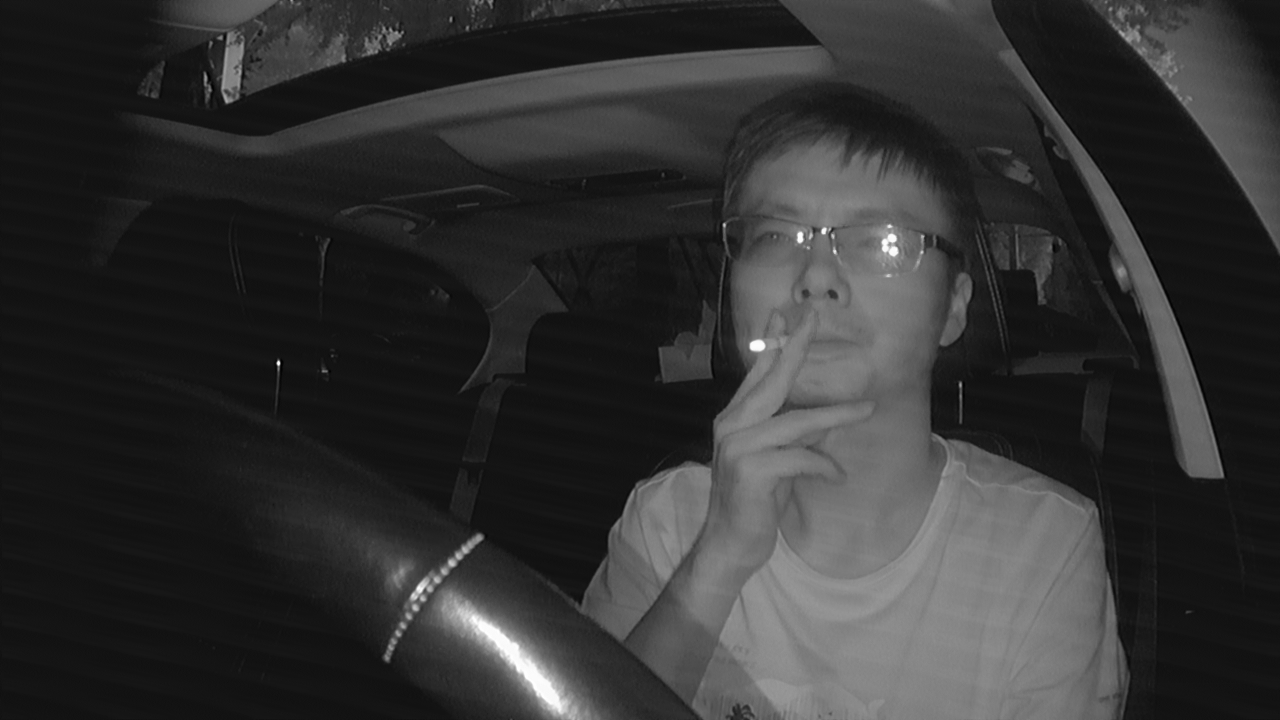hand: (720, 311, 861, 490)
